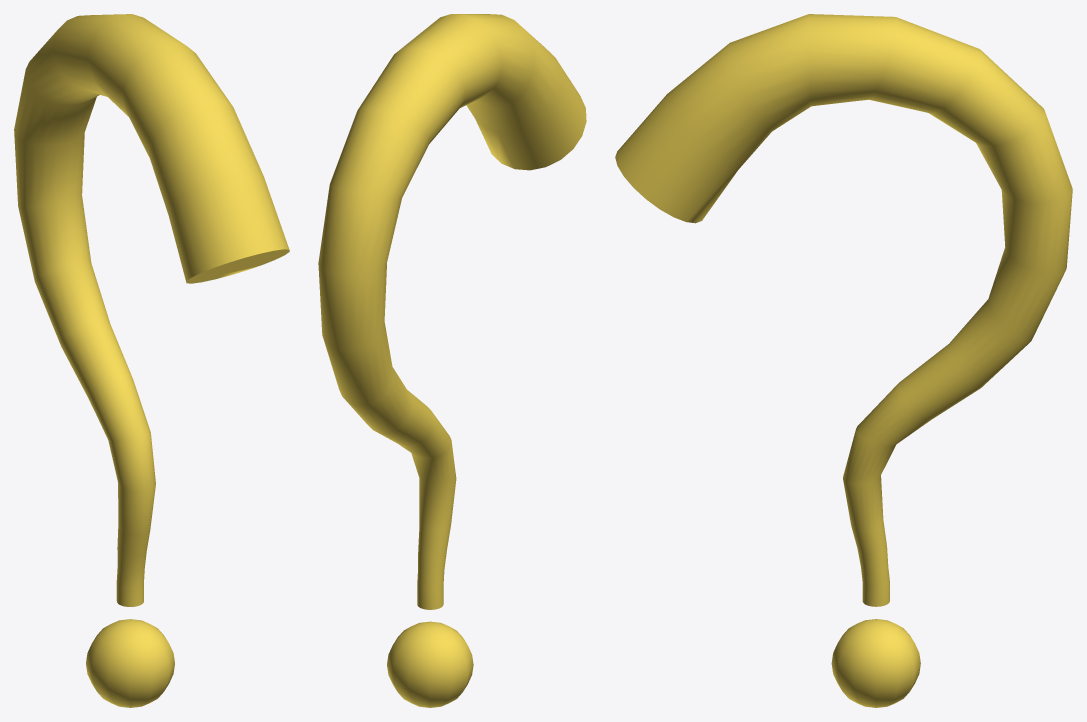
The model's file is MiscQuestionMarkUV.fbx.
3 renders of one model, left to right at view 1: azimuth 30°, elevation 25°; view 2: azimuth 150°, elevation 25°; view 3: azimuth 270°, elevation 25°, orthographic. The views are drawn at different scales.
Visible parts, largest first — view 1: polySurface1; view 2: polySurface1; view 3: polySurface1.
Part boxes in pixels (left/top/right/bottom): polySurface1: left=14, top=14, right=289, bottom=707; polySurface1: left=318, top=14, right=586, bottom=707; polySurface1: left=615, top=14, right=1072, bottom=707.
Bounding box in the file's own units: 25.06 × 173 × 105.
